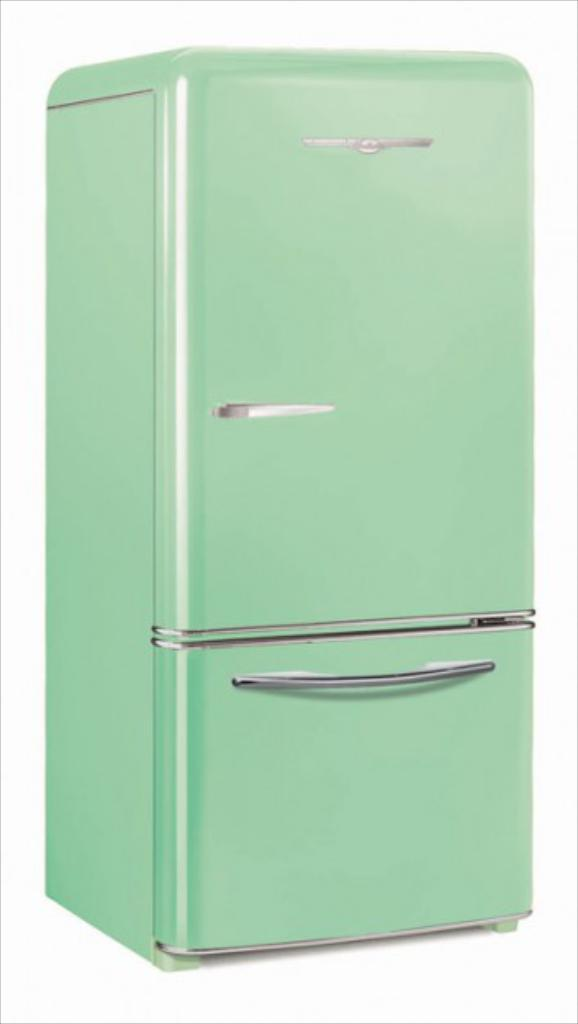handle: (235, 668, 492, 716)
